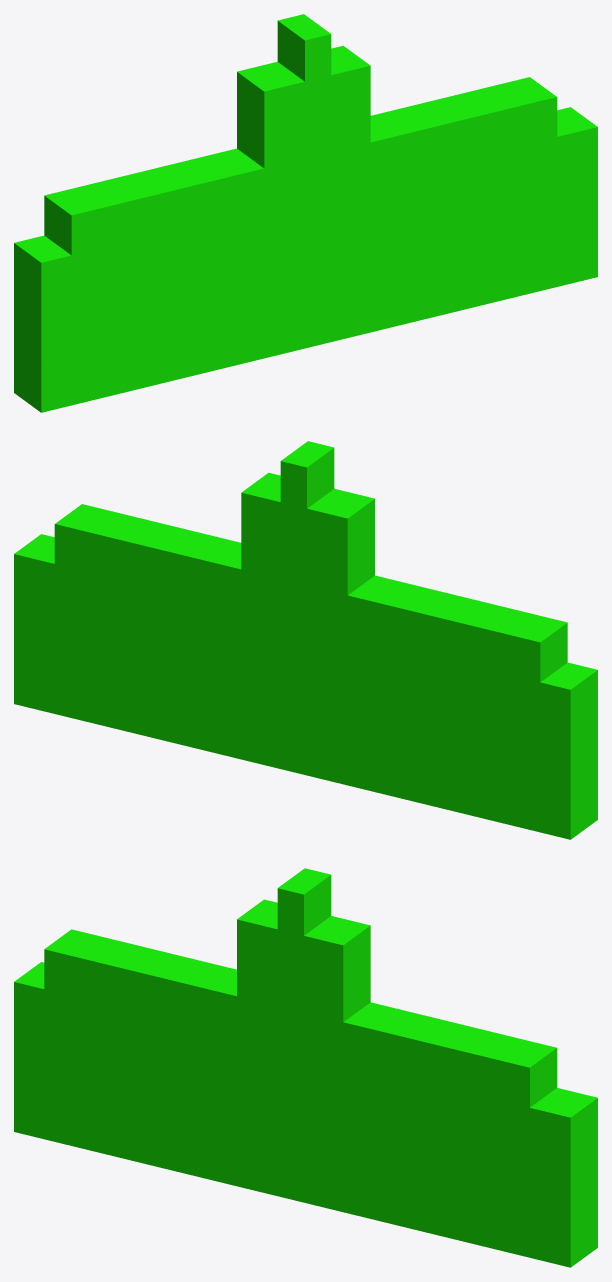
Rendered from Ship.fbx.
3 renders of one model, top to bottom at view 1: azimuth 30°, elevation 25°; view 2: azimuth 150°, elevation 25°; view 3: azimuth 330°, elevation 25°, orthographic.
Visible parts, largest first — view 1: Box001; view 2: Box001; view 3: Box001.
Part boxes in pixels (x1,y1,x2,y2): Box001: (14,14,597,412); Box001: (14,441,597,839); Box001: (14,868,597,1267).
Size of the model in its own units: 233 by 123 by 19.8.
Materials: 1 (1 with a texture image).
